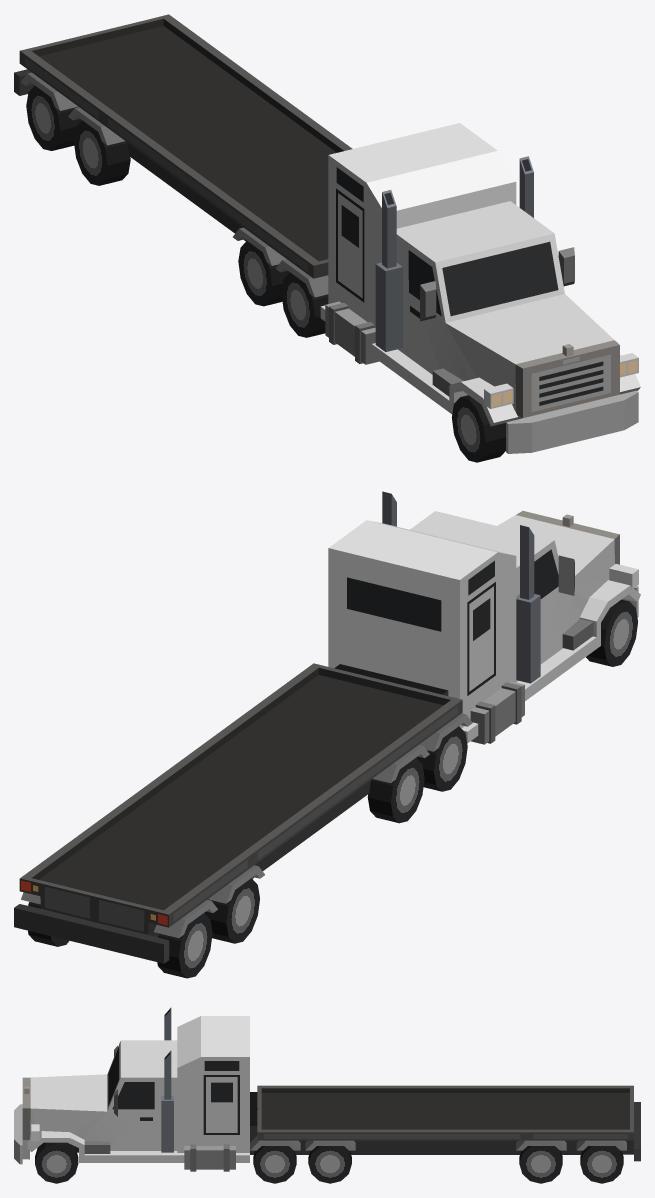
The model's file is SM_Veh_Freight_01_white.obj.
3 renders of one model, top to bottom at view 1: azimuth 30°, elevation 25°; view 2: azimuth 150°, elevation 25°; view 3: azimuth 270°, elevation 25°, orthographic. The views are drawn at different scales.
Parts seen in each view (by area): view 1: SM_Veh_BigRig_01:Mesh; view 2: SM_Veh_BigRig_01:Mesh; view 3: SM_Veh_BigRig_01:Mesh.
Part boxes in pixels (x1,y1,x2,y2): SM_Veh_BigRig_01:Mesh: (14,14,640,462); SM_Veh_BigRig_01:Mesh: (14,491,640,978); SM_Veh_BigRig_01:Mesh: (14,1007,640,1183).
Size of the model in its own units: 3.78 by 4.52 by 19.78.
Materials: 1 (1 with a texture image).
